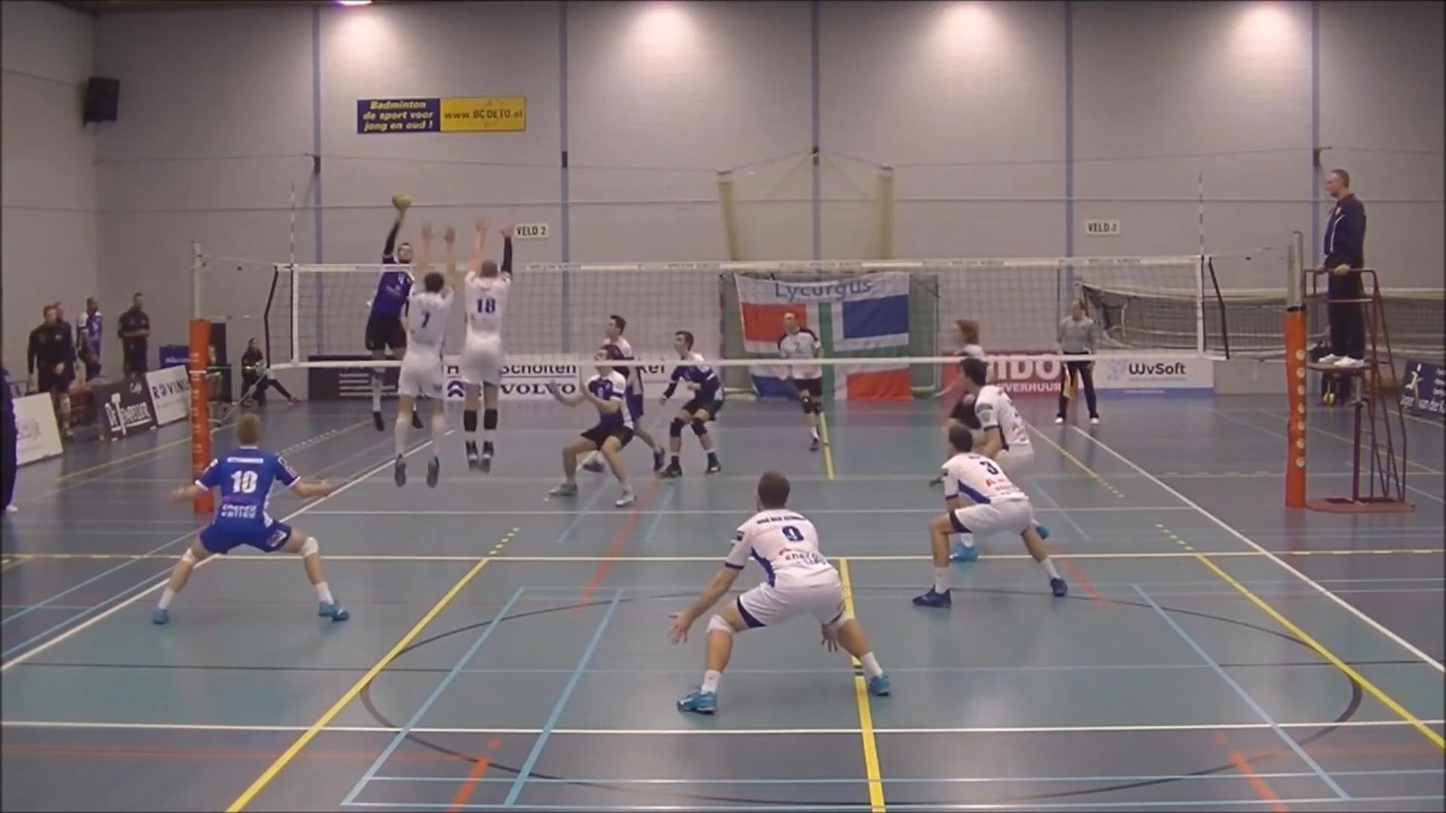Attack: (359, 179, 429, 432)
Block: (451, 215, 529, 466), (392, 222, 461, 486)
Player: (670, 472, 889, 714), (153, 415, 349, 624), (914, 426, 1066, 607), (548, 346, 635, 507), (659, 330, 723, 477), (960, 358, 1033, 477), (618, 366, 664, 472), (782, 364, 822, 450), (939, 368, 979, 432)
ball: (388, 187, 413, 214)
